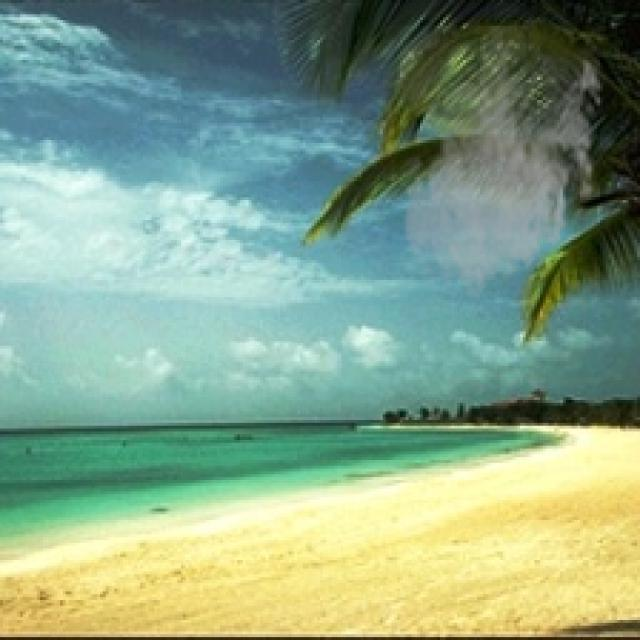Smoke: (397, 26, 609, 306)
